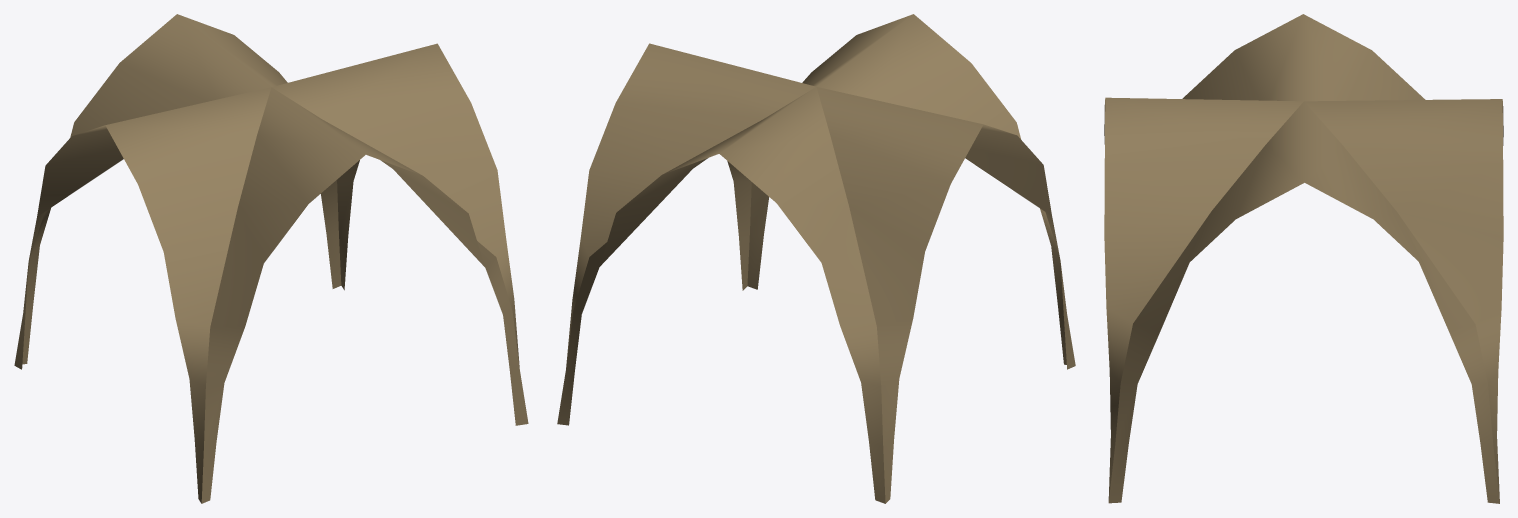
File: Arch_01.fbx
The picture shows the model from 3 angles, left to right: view 1: azimuth 30°, elevation 25°; view 2: azimuth 150°, elevation 25°; view 3: azimuth 270°, elevation 25°; orthographic projection. The views are drawn at different scales.
Visible parts, largest first — view 1: Arch_01; view 2: Arch_01; view 3: Arch_01.
Boxes of the visible parts, x1,y1,x2,y2 form: Arch_01: (14, 14, 528, 503); Arch_01: (557, 14, 1075, 503); Arch_01: (1104, 14, 1503, 503).
Bounding box in the file's own units: 320 × 284 × 318.
